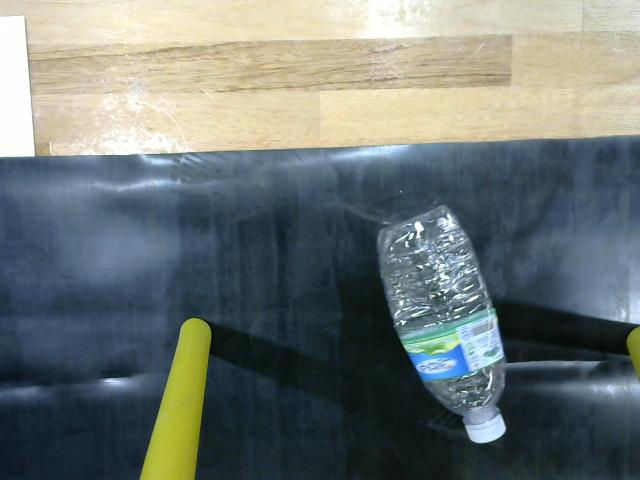bottle: (364, 193, 524, 461)
